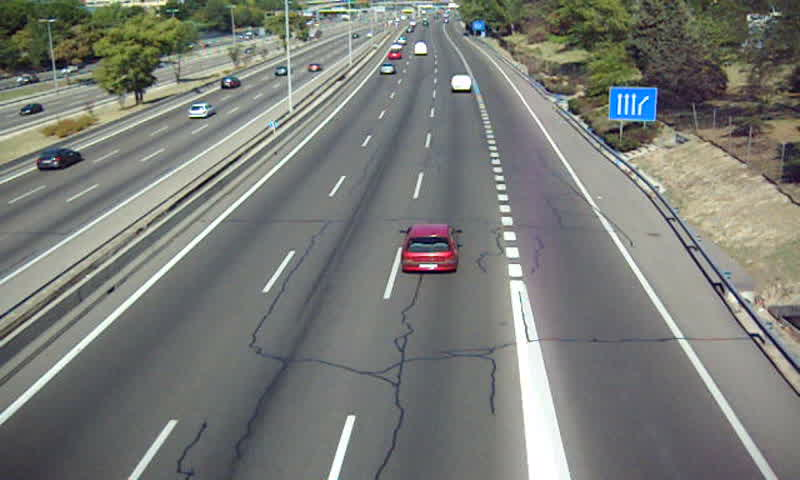car: (401, 224, 459, 273), (379, 62, 397, 74)
van: (451, 74, 471, 93)
